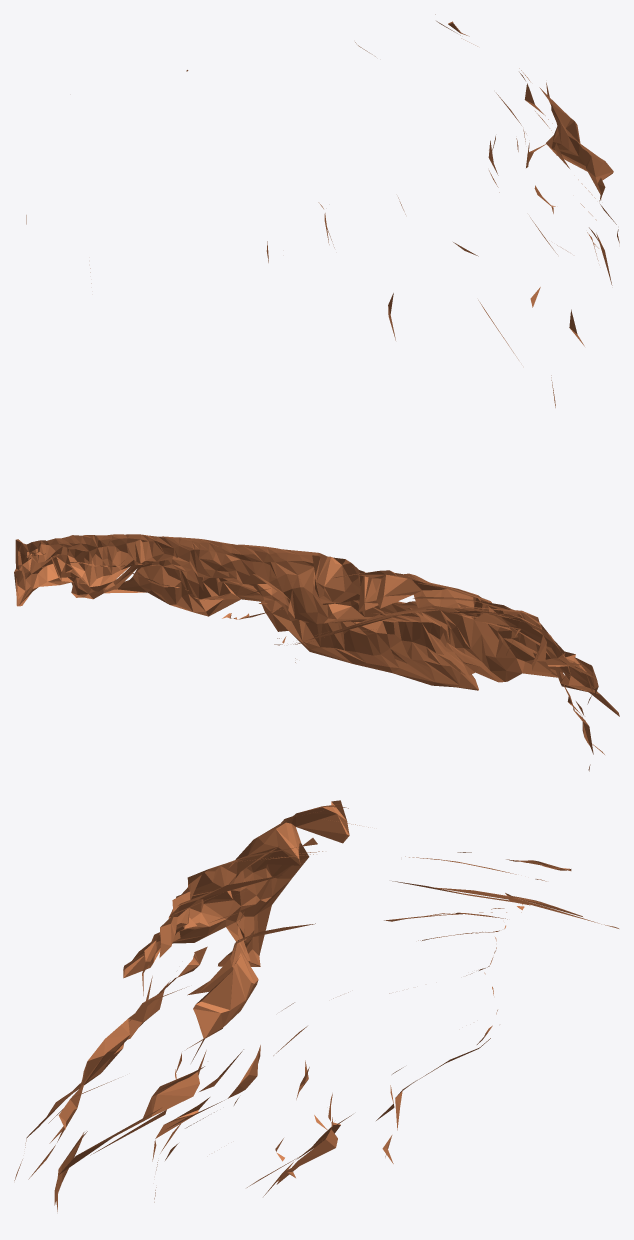
3 renders of one model, top to bottom at view 1: azimuth 30°, elevation 25°; view 2: azimuth 150°, elevation 25°; view 3: azimuth 270°, elevation 25°, orthographic. The views are drawn at different scales.
Parts seen in each view (by area): view 1: geometry_0; view 2: geometry_0; view 3: geometry_0.
Boxes of the visible parts, bbox=[...] form: geometry_0: bbox=[26, 14, 619, 407]; geometry_0: bbox=[14, 534, 619, 771]; geometry_0: bbox=[14, 800, 618, 1211].
Bounding box in the file's own units: 1.33 × 0.556 × 1.08.
